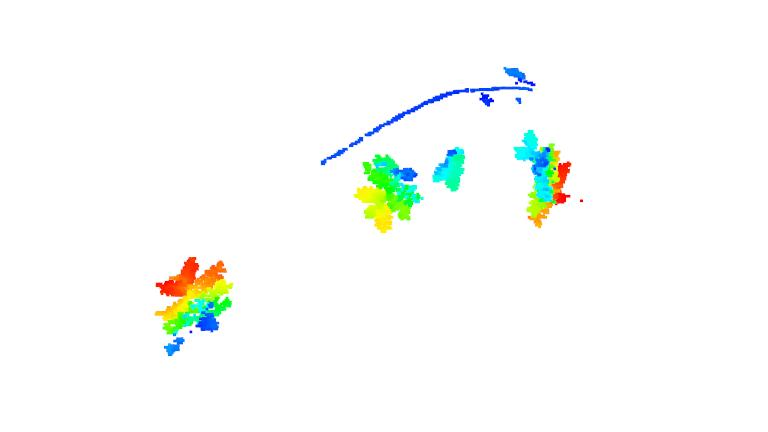chickpea: (151, 254, 233, 357), (353, 152, 426, 235), (515, 129, 576, 226), (432, 142, 470, 192)
